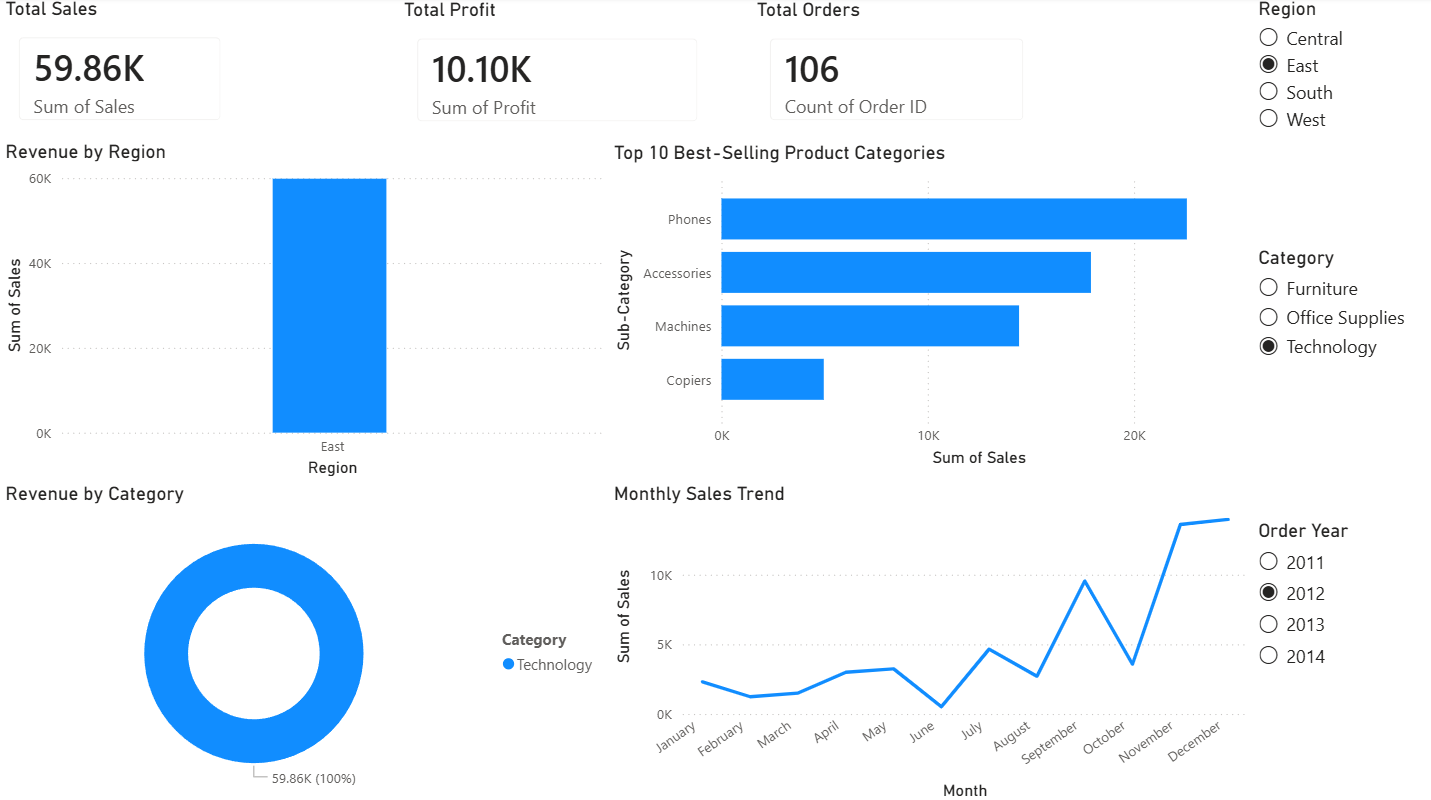

The dashboard page shown, as its layout file describes it:
{"tool":"powerbi","page":{"name":"Page 1","canvas":[1280,720],"ordinal":0},"visuals":[{"type":"lineChart","title":"Monthly Sales Trend","fields":{"Category":["Orders.Order Date.Variation.Date Hierarchy.Year","Orders.Order Date.Variation.Date Hierarchy.Quarter","Orders.Order Date.Variation.Date Hierarchy.Month","Orders.Order Date.Variation.Date Hierarchy.Day"],"Y":["Sum(Orders.Sales)"]},"box":[542.9,414.3,574.3,305.7],"z":0},{"type":"clusteredBarChart","title":"Top 10 Best-Selling Product Categories","fields":{"Category":["Orders.Sub-Category"],"Y":["Sum(Orders.Sales)"]},"box":[542.9,128.6,575.7,285.7],"z":1000},{"type":"donutChart","title":"Revenue by Category","fields":{"Category":["Orders.Category"],"Y":["Sum(Orders.Sales)"]},"box":[0,432.9,542.9,287.1],"z":2000},{"type":"clusteredColumnChart","title":"Revenue by Region","fields":{"Category":["Orders.Region"],"Y":["Sum(Orders.Sales)"]},"box":[0,127.1,542.9,287.1],"z":3000},{"type":"listSlicer","fields":{"Values":["Orders.Order Year"]},"box":[1117.1,465.7,162.9,254.3],"z":4000},{"type":"listSlicer","fields":{"Values":["Orders.Category"]},"box":[1117.1,222.9,162.9,242.9],"z":5000},{"type":"listSlicer","fields":{"Values":["Orders.Region"]},"box":[1117.1,0,162.9,222.9],"z":6000},{"type":"cardVisual","title":"Total Sales","fields":{"Data":["Sum(Orders.Sales)"]},"box":[0,0,214.4,127.8],"z":7000},{"type":"cardVisual","title":"Total Profit","fields":{"Data":["Sum(Orders.Profit)"]},"box":[355.6,1.1,284.4,127.8],"z":8000},{"type":"cardVisual","title":"Total Orders","fields":{"Data":["Count(Orders.Order ID)"]},"box":[670,1.1,260,126.7],"z":9000}]}

Visuals, with their boxes in screenshot pixels (x1, y1, x2, y2), scaled from the page's 1280x720 canvas onto the 1431x800 screenshot:
"Monthly Sales Trend" lineChart: 607,460,1249,799
"Top 10 Best-Selling Product Categories" clusteredBarChart: 607,143,1251,460
"Revenue by Category" donutChart: 0,481,607,799
"Revenue by Region" clusteredColumnChart: 0,141,607,460
listSlicer - Orders.Order Year: 1249,517,1430,799
listSlicer - Orders.Category: 1249,248,1430,518
listSlicer - Orders.Region: 1249,0,1430,248
"Total Sales" cardVisual: 0,0,240,142
"Total Profit" cardVisual: 398,1,716,143
"Total Orders" cardVisual: 749,1,1040,142
